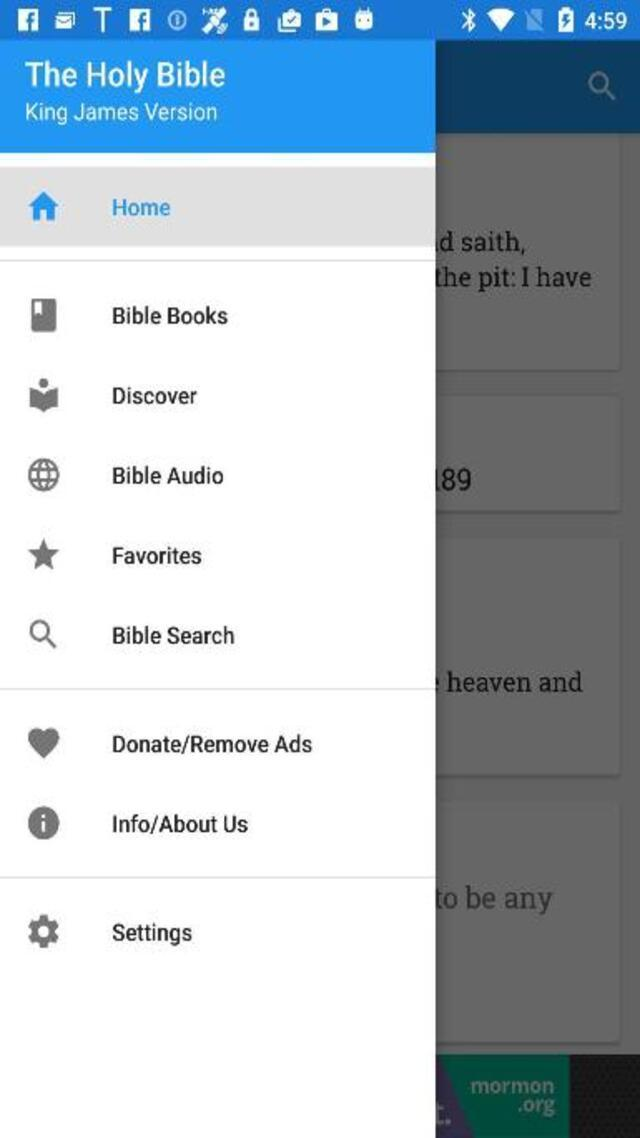Icon: (27, 914, 59, 948), (27, 806, 59, 840), (27, 458, 59, 492), (28, 377, 58, 412), (27, 728, 59, 760), (27, 537, 59, 569), (29, 297, 56, 332), (27, 192, 59, 221), (29, 620, 57, 650)
Text: (23, 60, 226, 94), (26, 102, 217, 126), (114, 734, 312, 754), (114, 813, 248, 834), (112, 464, 224, 486), (112, 625, 234, 645), (112, 304, 227, 325), (113, 922, 193, 945), (113, 545, 203, 565), (112, 386, 197, 404), (113, 196, 170, 216)
